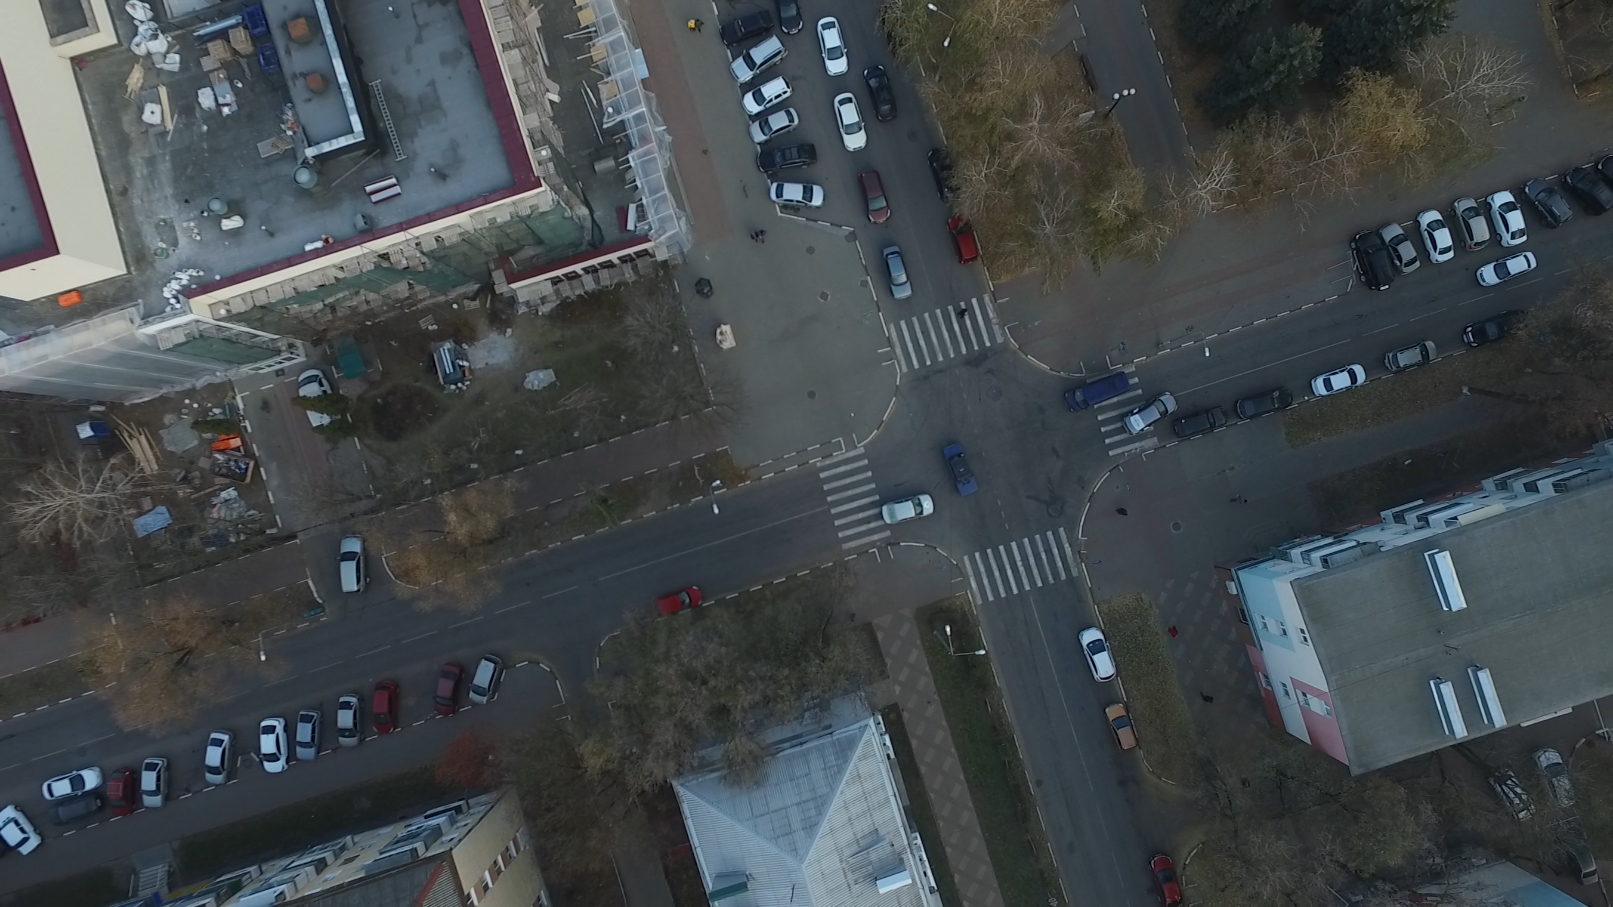car: (1532, 748, 1581, 820), (1462, 306, 1530, 350), (730, 35, 789, 86), (1352, 230, 1397, 293), (1121, 389, 1177, 440), (1521, 178, 1574, 230), (1064, 372, 1131, 412), (1143, 851, 1190, 907), (1486, 767, 1533, 822), (333, 534, 370, 600), (1077, 628, 1119, 686), (1453, 197, 1494, 256), (1564, 165, 1610, 215), (1311, 361, 1367, 400), (1, 806, 42, 859), (1479, 249, 1540, 285), (748, 103, 799, 145), (942, 442, 982, 495), (35, 767, 99, 801), (927, 147, 966, 200), (833, 91, 867, 151), (1379, 221, 1417, 276), (721, 10, 775, 48), (1172, 404, 1227, 441), (1490, 190, 1524, 249), (135, 757, 173, 811), (1417, 207, 1452, 264), (259, 713, 291, 775), (815, 16, 847, 78), (469, 655, 508, 704), (205, 732, 242, 786), (429, 661, 463, 719), (1381, 341, 1437, 377), (741, 78, 795, 113), (100, 766, 137, 817), (767, 178, 828, 209), (864, 64, 897, 120), (879, 493, 933, 526), (947, 214, 980, 268), (1103, 703, 1140, 752), (857, 168, 888, 225), (290, 710, 323, 762), (882, 246, 912, 303), (1236, 386, 1292, 418), (335, 695, 363, 754), (651, 584, 703, 614), (758, 146, 816, 171), (370, 681, 395, 734), (775, 1, 803, 37)
